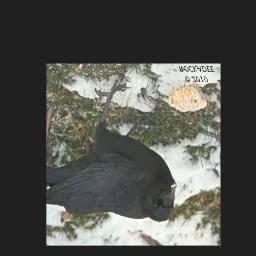Crow: (47, 80, 177, 223)
